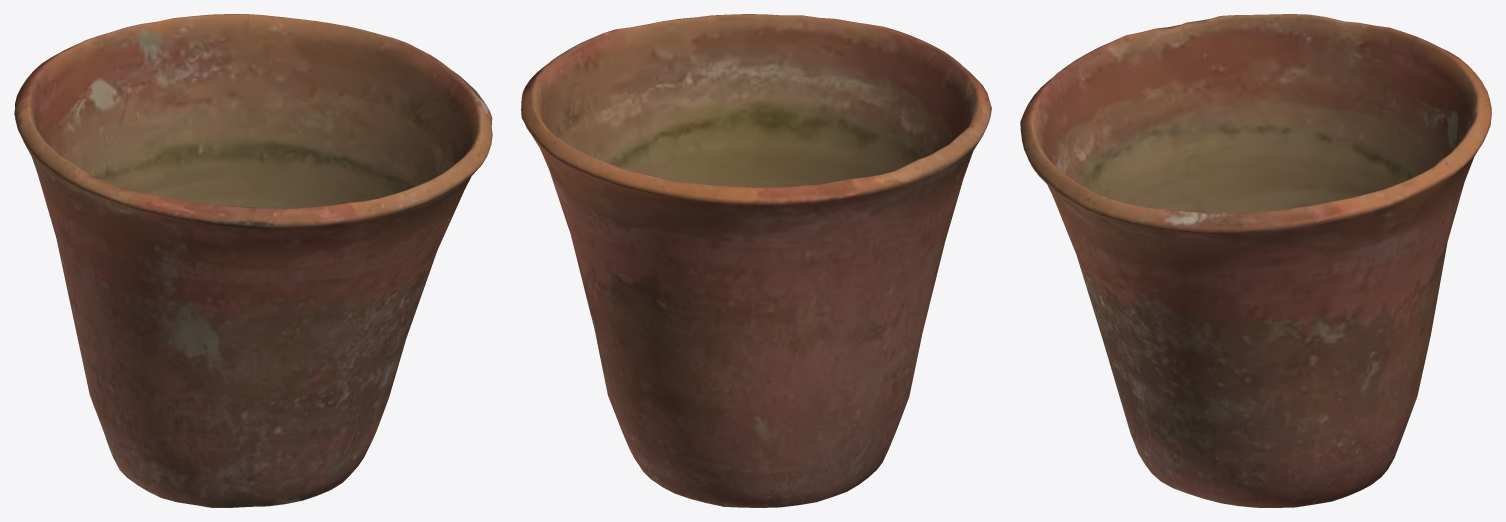
The model's file is planter.glb.
The picture shows the model from 3 angles, left to right: view 1: azimuth 30°, elevation 25°; view 2: azimuth 150°, elevation 25°; view 3: azimuth 270°, elevation 25°; orthographic projection.
Parts seen in each view (by area): view 1: planter_pot_clay; view 2: planter_pot_clay; view 3: planter_pot_clay.
Part boxes in pixels (left/top/right/bottom): planter_pot_clay: left=14, top=14, right=492, bottom=507; planter_pot_clay: left=521, top=14, right=991, bottom=507; planter_pot_clay: left=1020, top=14, right=1491, bottom=507.
Bounding box in the file's own units: 0.266 × 0.2219 × 0.2635.
1 material, 1 textured.
